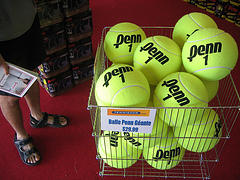tennis ball: (151, 72, 208, 131), (181, 28, 237, 80), (94, 65, 152, 109), (134, 36, 183, 84), (174, 107, 223, 153), (104, 22, 146, 65), (98, 128, 143, 168), (122, 108, 168, 147), (144, 131, 185, 170), (172, 12, 219, 45), (201, 78, 218, 102)
